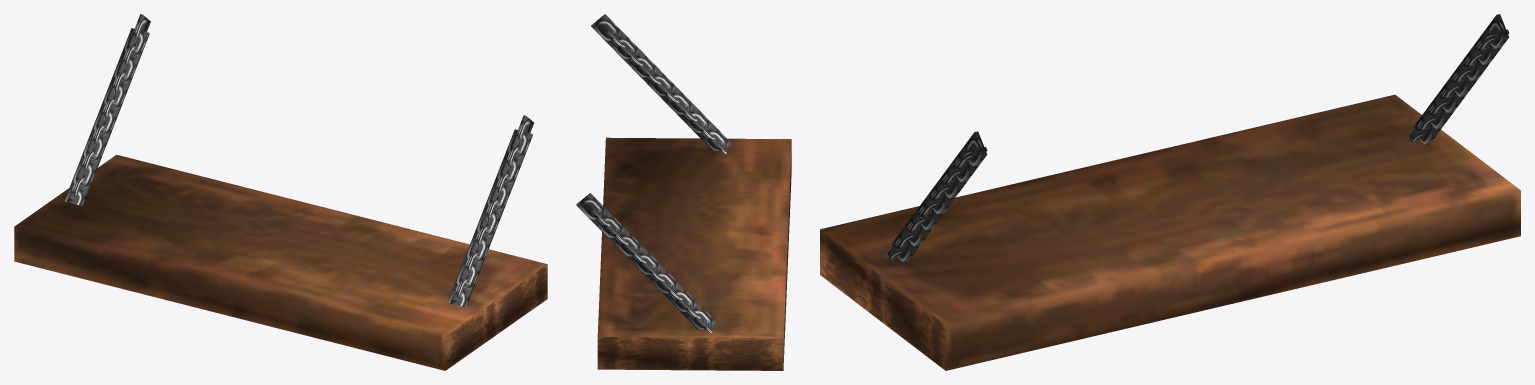
File: SWORDLIGHT20_JAILCOT04.fbx
3 renders of one model, left to right at view 1: azimuth 30°, elevation 25°; view 2: azimuth 150°, elevation 25°; view 3: azimuth 270°, elevation 25°, orthographic. The views are drawn at different scales.
Visible parts, largest first — view 1: SWORDLIGHT20_JAILCOT04; view 2: SWORDLIGHT20_JAILCOT04; view 3: SWORDLIGHT20_JAILCOT04.
Part boxes in pixels (left/top/right/bottom): SWORDLIGHT20_JAILCOT04: left=14, top=14, right=547, bottom=370; SWORDLIGHT20_JAILCOT04: left=576, top=14, right=791, bottom=370; SWORDLIGHT20_JAILCOT04: left=820, top=14, right=1520, bottom=370.
Bounding box in the file's own units: 20749 × 9715 × 26559.
2 materials, 2 textured.
